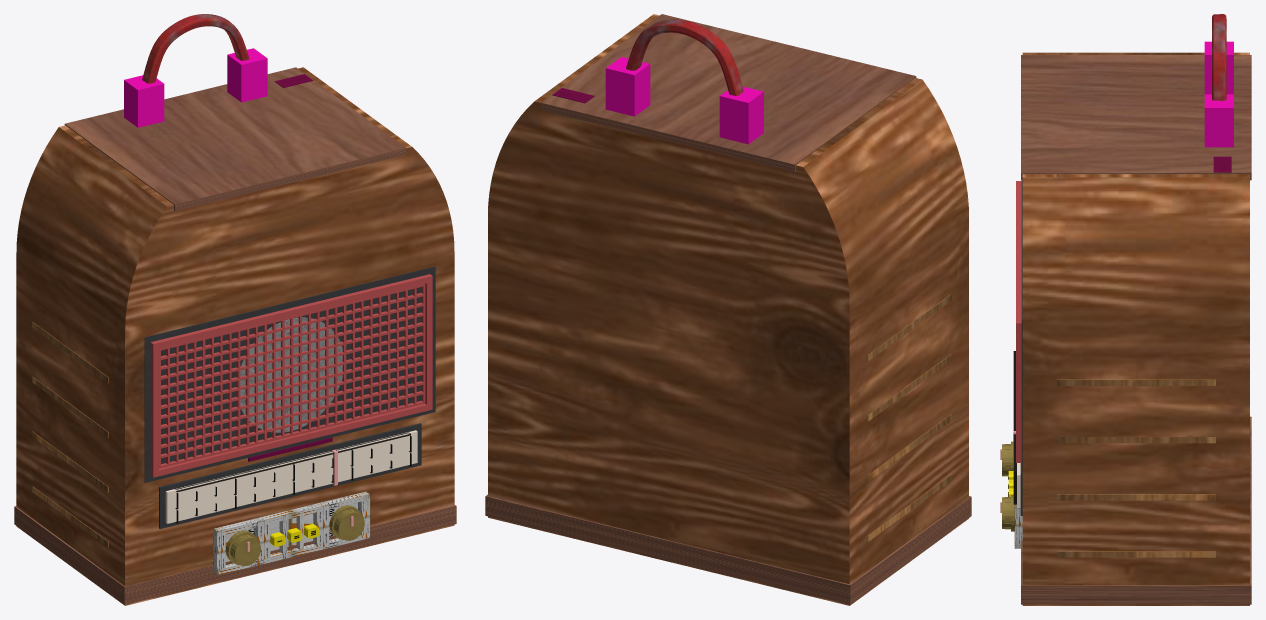
Rendered from Technology_Audio_Device__2088.glb.
3 renders of one model, left to right at view 1: azimuth 30°, elevation 25°; view 2: azimuth 150°, elevation 25°; view 3: azimuth 270°, elevation 25°, orthographic. The views are drawn at different scales.
Visible parts, largest first — view 1: cabinet::cabinet_form__tombstone_upright__shell, cabinet::grille_style__perforated_mesh__field_0, cabinet::cabinet_form__tombstone_upright__crown_platform, cabinet::speaker_layout__single_field__field_bezel_0, cabinet::cabinet_form__tombstone_upright__dial_face, cabinet::cabinet_form__tombstone_upright__base_moulding, cabinet::speaker_layout__single_field__cone_0, cabinet::cabinet_form__tombstone_upright__dial_bezel, cabinet::cabinet_form__tombstone_upright__side_trim, carry_handle::carry_handle__fixed_bail__arch, carry_handle::carry_handle__fixed_bail__saddle_0, carry_handle::carry_handle__fixed_bail__saddle_1 (+7 smaller); view 2: cabinet::cabinet_form__tombstone_upright__shell, cabinet::cabinet_form__tombstone_upright__crown_platform, cabinet::cabinet_form__tombstone_upright__base_moulding, cabinet::cabinet_form__tombstone_upright__side_trim, carry_handle::carry_handle__fixed_bail__arch, carry_handle::carry_handle__fixed_bail__saddle_1, carry_handle::carry_handle__fixed_bail__saddle_0; view 3: cabinet::cabinet_form__tombstone_upright__shell, cabinet::cabinet_form__tombstone_upright__crown_platform, cabinet::cabinet_form__tombstone_upright__base_moulding, cabinet::cabinet_form__tombstone_upright__side_trim, cabinet::grille_style__perforated_mesh__field_0, carry_handle::carry_handle__fixed_bail__saddle_1, carry_handle::carry_handle__fixed_bail__arch, carry_handle::carry_handle__fixed_bail__saddle_0, cabinet::speaker_layout__single_field__field_bezel_0, cabinet::cabinet_form__tombstone_upright__dial_scale, control_deck__transport_key_deck__knob_01::control_deck__tra, control_deck__transport_key_deck__knob_00::control_deck__tra.
Part boxes in pixels (x1,y1,x2,y2): cabinet::cabinet_form__tombstone_upright__shell: (16,67,454,605); cabinet::grille_style__perforated_mesh__field_0: (150,274,432,477); cabinet::cabinet_form__tombstone_upright__crown_platform: (64,67,406,211); cabinet::speaker_layout__single_field__field_bezel_0: (144,266,435,482); cabinet::cabinet_form__tombstone_upright__dial_face: (165,430,417,523); cabinet::cabinet_form__tombstone_upright__base_moulding: (14,505,456,604); cabinet::speaker_layout__single_field__cone_0: (240,317,342,432); cabinet::cabinet_form__tombstone_upright__dial_bezel: (159,423,421,528); cabinet::cabinet_form__tombstone_upright__side_trim: (32,322,108,547); carry_handle::carry_handle__fixed_bail__arch: (142,14,249,83); carry_handle::carry_handle__fixed_bail__saddle_0: (124,75,164,127); carry_handle::carry_handle__fixed_bail__saddle_1: (227,48,267,102); cabinet::cabinet_form__tombstone_upright__shell: (488,14,968,605); cabinet::cabinet_form__tombstone_upright__crown_platform: (540,14,916,172); cabinet::cabinet_form__tombstone_upright__base_moulding: (485,494,971,604); cabinet::cabinet_form__tombstone_upright__side_trim: (867,294,951,541); carry_handle::carry_handle__fixed_bail__arch: (626,19,743,95); carry_handle::carry_handle__fixed_bail__saddle_1: (605,57,650,116); carry_handle::carry_handle__fixed_bail__saddle_0: (719,86,763,144); cabinet::cabinet_form__tombstone_upright__shell: (1022,52,1249,605); cabinet::cabinet_form__tombstone_upright__crown_platform: (1021,55,1251,180); cabinet::cabinet_form__tombstone_upright__base_moulding: (1021,416,1251,604); cabinet::cabinet_form__tombstone_upright__side_trim: (1057,379,1215,557); cabinet::grille_style__perforated_mesh__field_0: (1016,181,1021,462); carry_handle::carry_handle__fixed_bail__saddle_1: (1204,94,1233,147); carry_handle::carry_handle__fixed_bail__arch: (1212,14,1226,100); carry_handle::carry_handle__fixed_bail__saddle_0: (1204,41,1233,94); cabinet::speaker_layout__single_field__field_bezel_0: (1021,180,1022,471); cabinet::cabinet_form__tombstone_upright__dial_scale: (1013,351,1016,504); control_deck__transport_key_deck__knob_01::control_deck__tra: (1002,494,1014,531); control_deck__transport_key_deck__knob_00::control_deck__tra: (1002,441,1013,476).
Bounding box in the file's own units: 0.353 × 0.4874 × 0.2213.
Materials: 21 (9 with a texture image).
